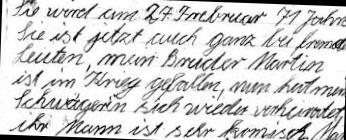text: (8, 62, 346, 109), (15, 17, 346, 62), (11, 87, 345, 130), (10, 40, 329, 82), (10, 0, 346, 36), (6, 106, 344, 140)
